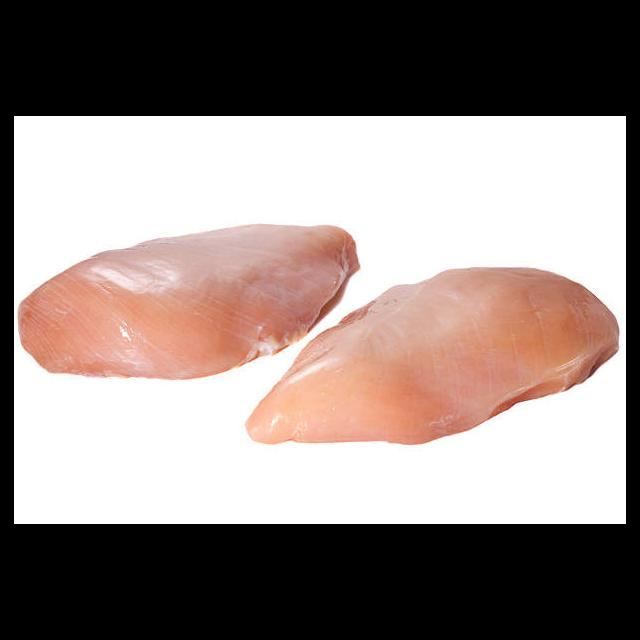chicken: (245, 263, 620, 443), (17, 224, 360, 377)
